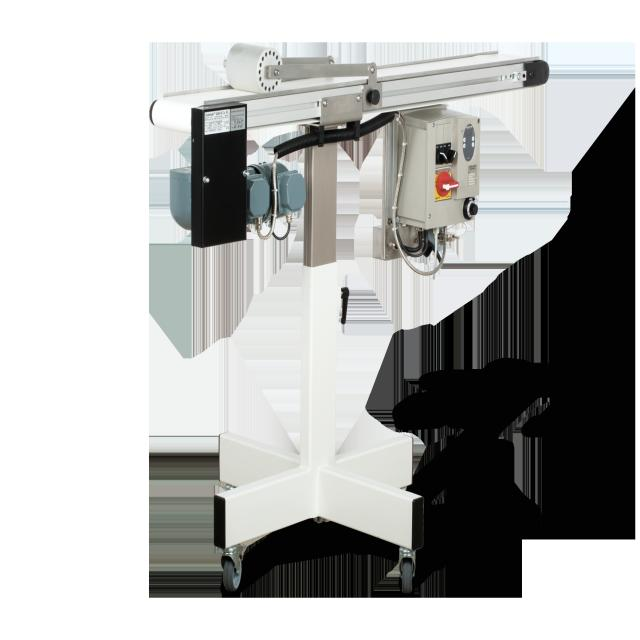conveyor: (139, 31, 550, 608)
